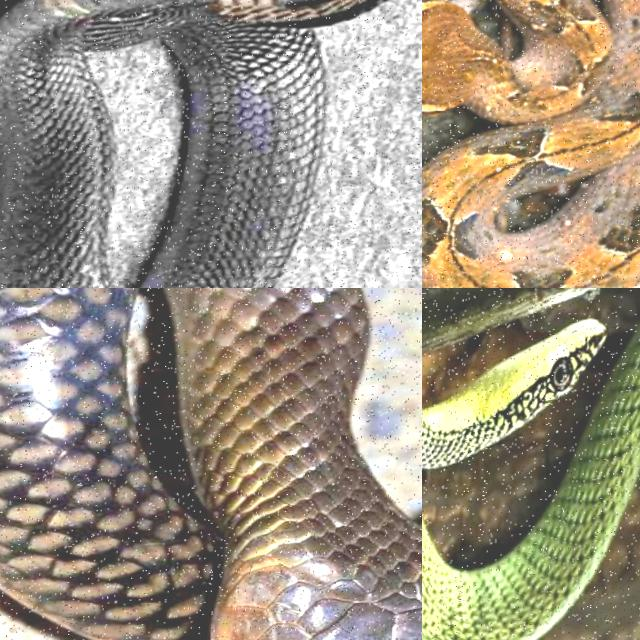Calloselasma rhodostoma: (422, 0, 639, 287)
Chrysopelea ornata: (422, 330, 639, 639)
Naja kaouthia: (0, 288, 421, 639)
Naja siamensis: (0, 0, 384, 287)
